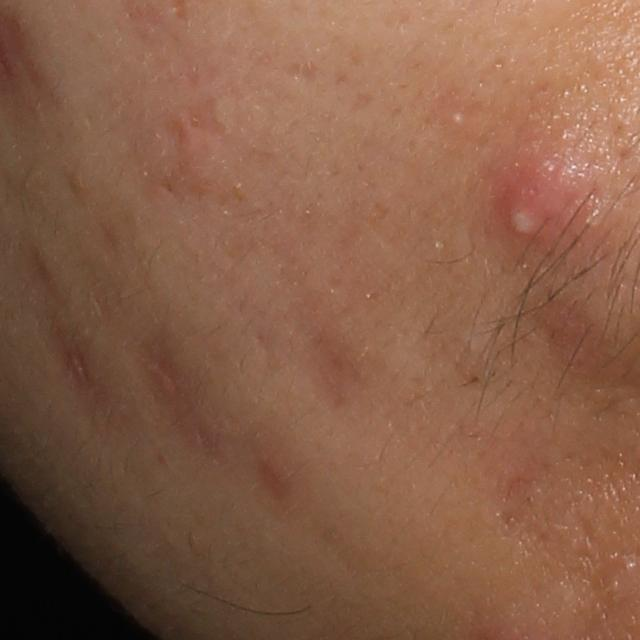atrophic_scar: (237, 449, 366, 570), (38, 259, 138, 415), (152, 344, 229, 462), (293, 320, 386, 416), (280, 60, 322, 85)
pustule: (496, 153, 598, 268), (447, 108, 467, 129)
